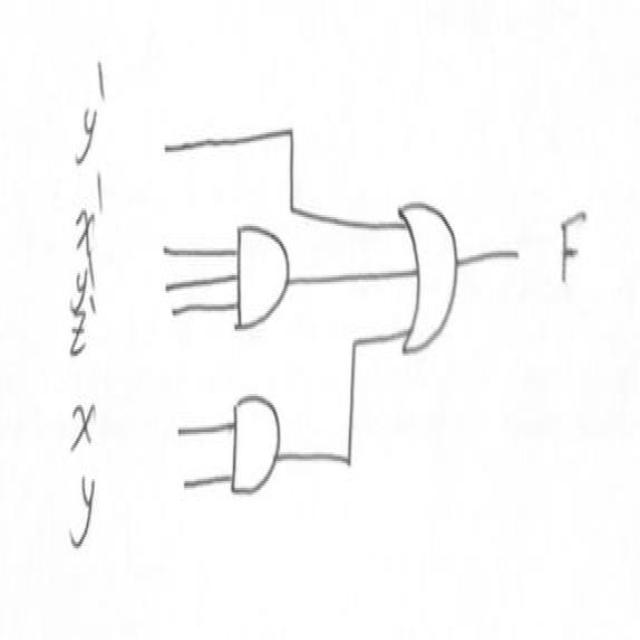AND: (229, 388, 295, 515), (233, 222, 292, 342)
OR: (392, 188, 464, 390)
